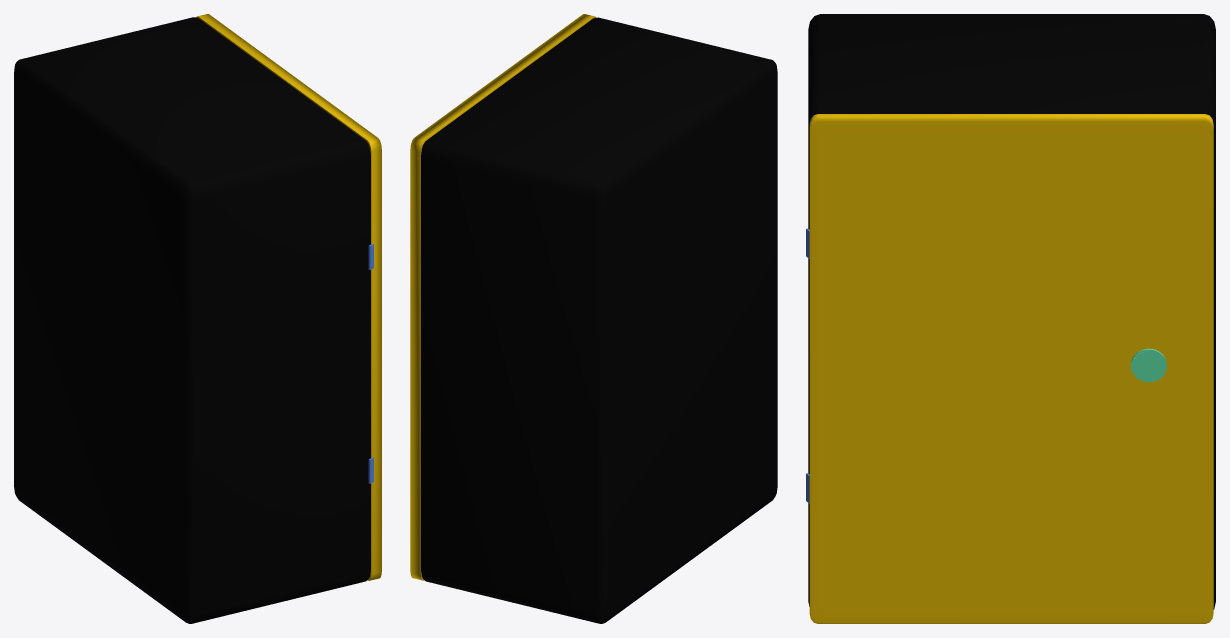
The model's file is Sicherungskaste.fbx.
3 renders of one model, left to right at view 1: azimuth 30°, elevation 25°; view 2: azimuth 150°, elevation 25°; view 3: azimuth 270°, elevation 25°, orthographic. The views are drawn at different scales.
Parts seen in each view (by area): view 1: Cube.048, Cube.049; view 2: Cube.048, Cube.049; view 3: Cube.049, Cube.048, Cube.056.
Part boxes in pixels (box(x1,y1,x2,y2)): Cube.048: box(14, 17, 373, 623); Cube.049: box(196, 14, 381, 580); Cube.048: box(421, 17, 777, 623); Cube.049: box(410, 14, 595, 580); Cube.049: box(809, 114, 1213, 623); Cube.048: box(806, 14, 1215, 609); Cube.056: box(1131, 348, 1166, 382).
Size of the model in its own units: 49.04 by 105 by 77.34.
